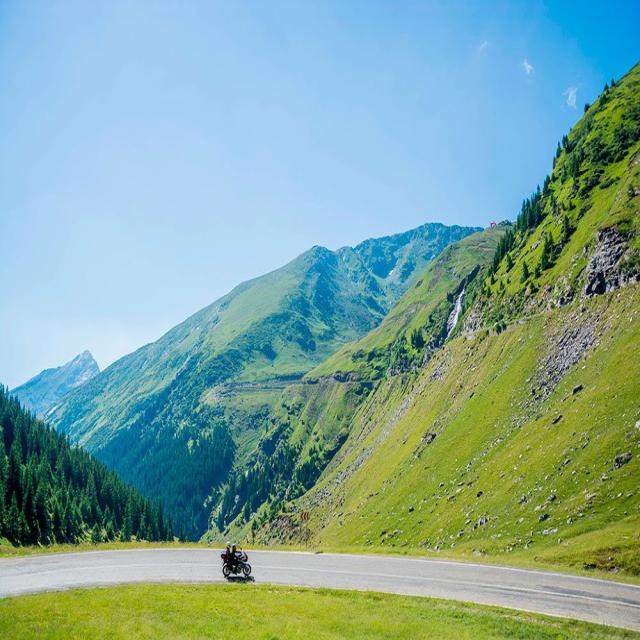MOTORCYCLE: (220, 552, 256, 582)
